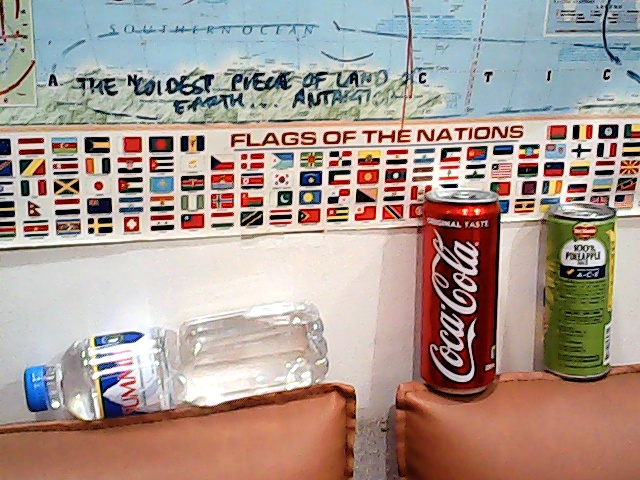Cola: (411, 180, 512, 403)
Pine Juice: (534, 199, 622, 386)
Summit Water: (21, 305, 325, 436)
